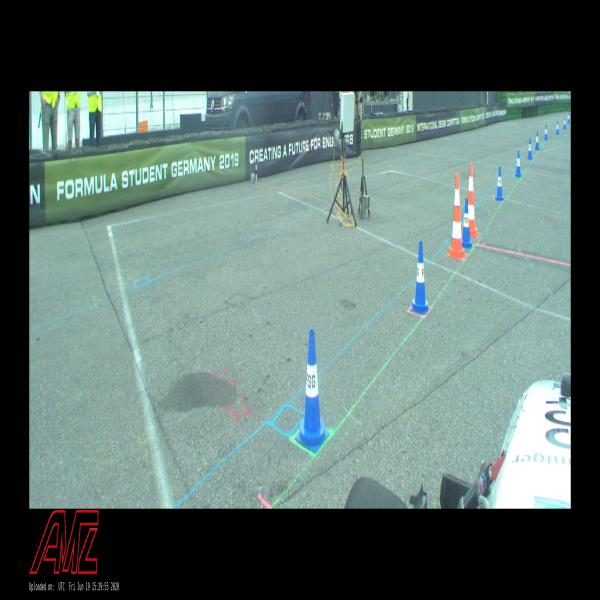blue_cone: (296, 329, 330, 453), (410, 241, 430, 314), (462, 199, 472, 248), (495, 167, 504, 200), (515, 150, 521, 176), (528, 138, 532, 159), (535, 131, 539, 150), (544, 125, 548, 140), (556, 121, 559, 134), (563, 117, 566, 129), (567, 113, 570, 123)
large_orange_cone: (447, 173, 467, 259), (468, 162, 478, 238)
